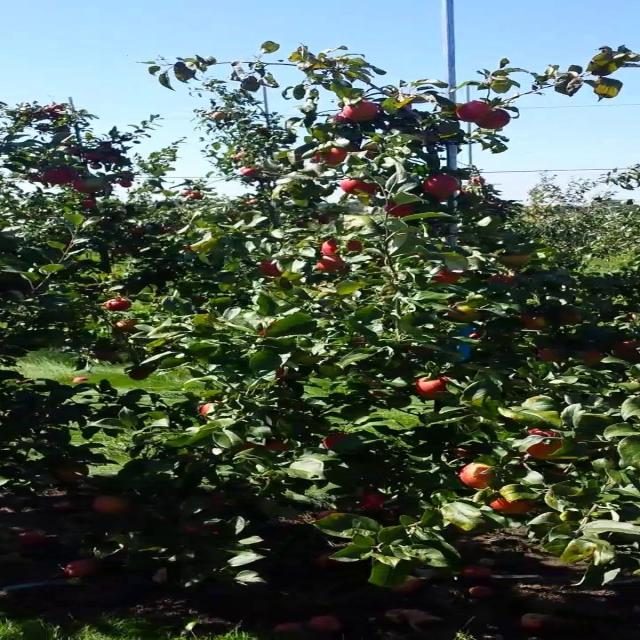apple: (422, 174, 460, 201), (458, 462, 493, 489), (340, 100, 380, 122), (340, 100, 378, 122), (489, 498, 538, 515), (416, 376, 449, 399), (456, 101, 491, 122), (51, 464, 87, 484), (476, 109, 511, 129), (527, 439, 562, 458), (444, 304, 480, 322), (311, 148, 349, 165), (91, 495, 127, 512), (340, 179, 380, 194), (613, 340, 640, 362), (42, 168, 78, 183), (520, 312, 549, 330), (536, 346, 567, 362), (384, 201, 413, 218), (360, 491, 387, 509), (316, 255, 344, 272), (322, 432, 349, 449), (576, 349, 604, 365), (498, 254, 530, 267), (556, 309, 582, 325), (258, 260, 282, 277), (433, 270, 460, 284), (102, 298, 131, 311), (487, 272, 518, 284), (113, 319, 138, 332), (73, 179, 98, 192), (264, 439, 291, 451), (91, 350, 118, 362), (320, 239, 340, 255), (127, 368, 153, 380), (527, 429, 560, 438), (362, 142, 380, 158), (198, 402, 218, 416), (236, 442, 264, 452), (362, 142, 378, 159), (331, 111, 353, 123), (102, 152, 122, 164), (211, 492, 224, 508), (344, 240, 362, 251), (82, 151, 101, 161), (80, 198, 96, 209), (71, 376, 89, 384), (64, 146, 78, 156), (27, 174, 42, 182)
